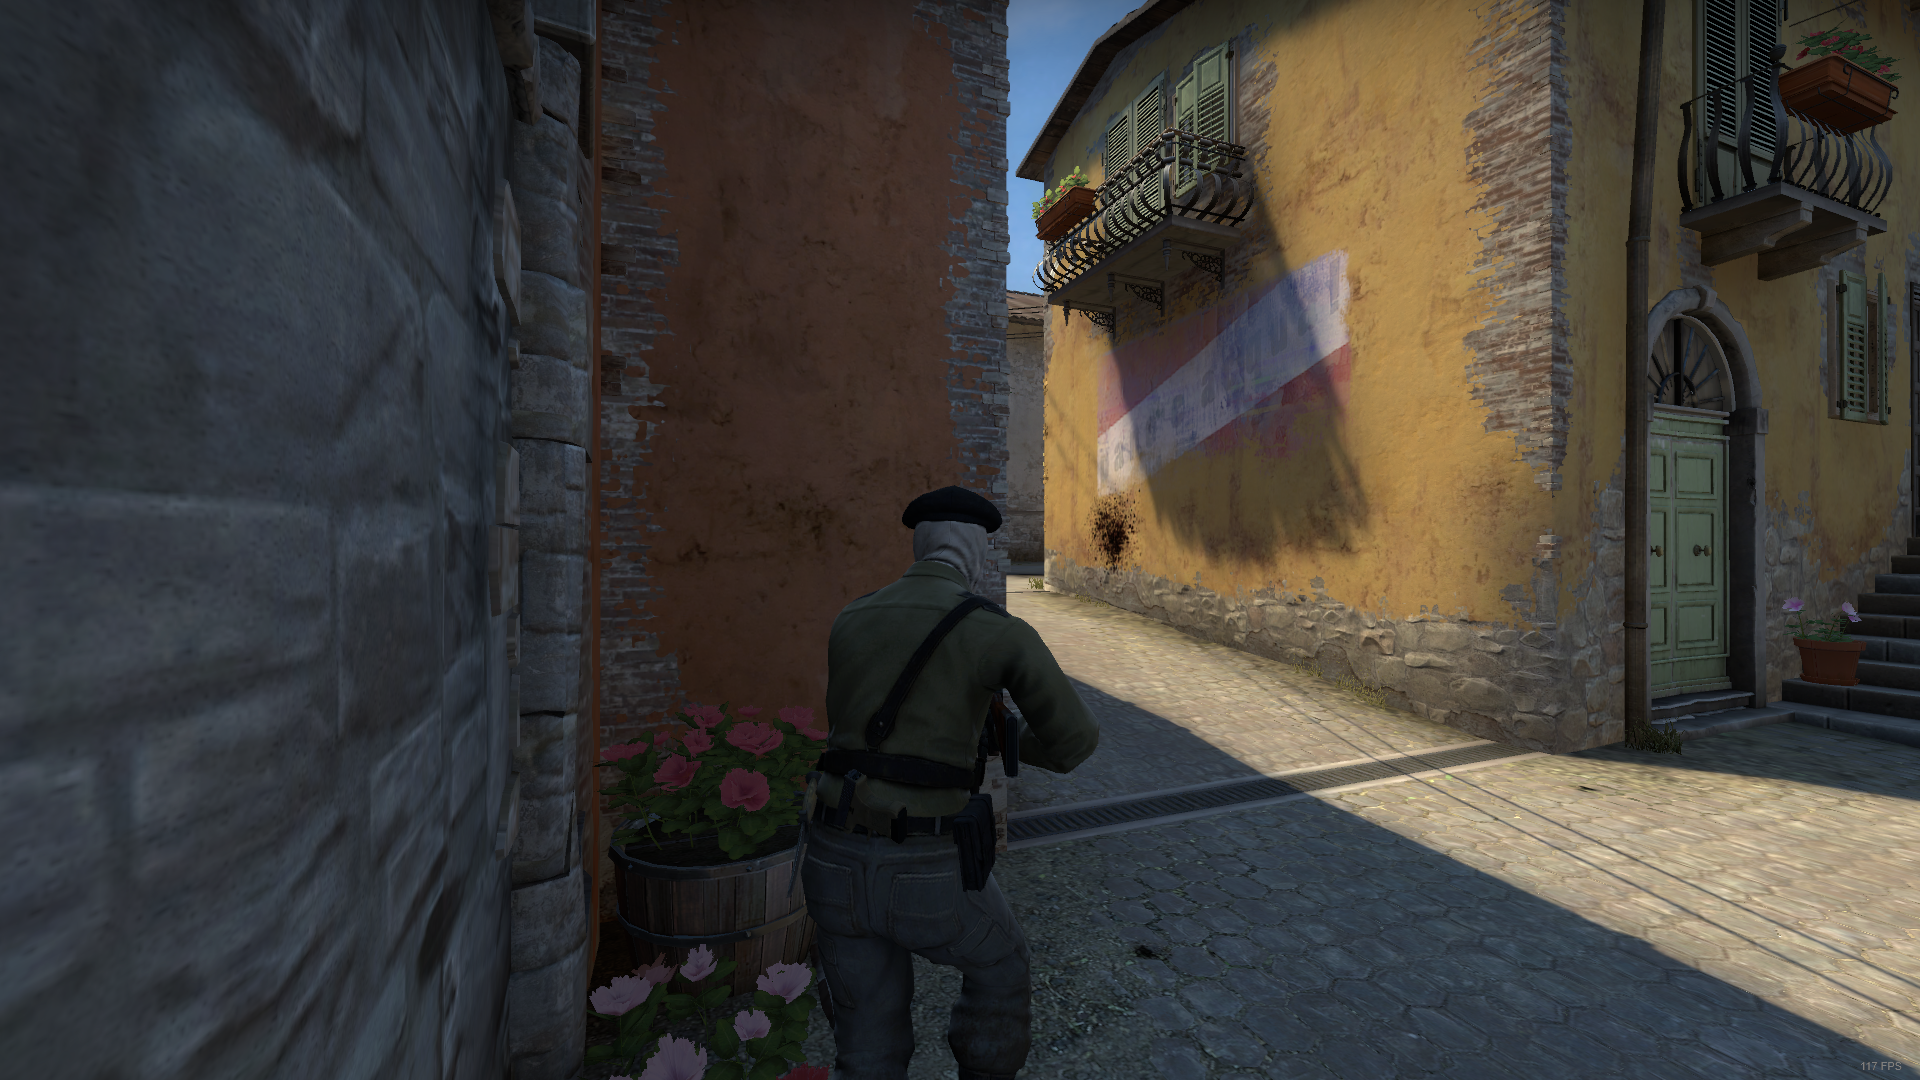t: (804, 485, 1102, 1080)
